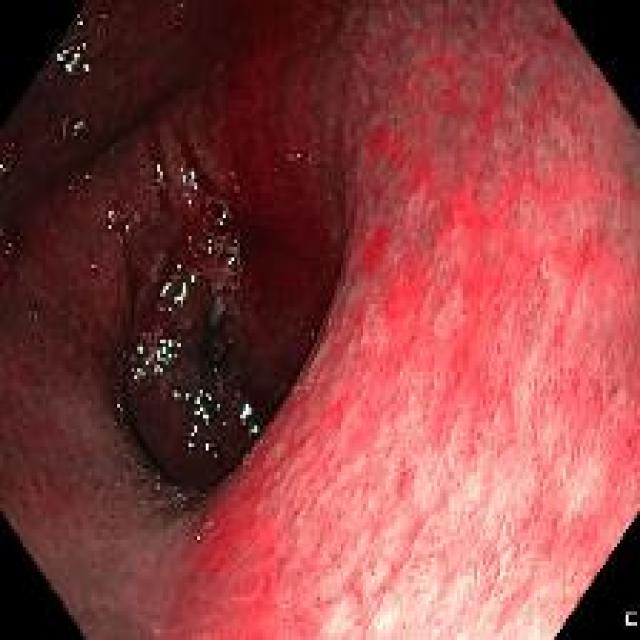bubbles: (54, 44, 93, 80), (2, 137, 19, 172), (107, 366, 127, 390), (3, 230, 16, 264), (223, 245, 237, 271), (168, 385, 183, 407), (172, 489, 189, 507), (222, 279, 238, 297), (223, 332, 236, 353), (76, 112, 91, 130), (154, 471, 166, 493), (207, 363, 223, 379), (27, 306, 40, 325), (219, 305, 232, 322), (203, 436, 213, 457), (185, 440, 196, 459), (186, 422, 199, 438), (74, 15, 87, 30), (99, 9, 111, 25), (98, 24, 106, 40), (84, 172, 97, 181)
contrast: (0, 1, 219, 487), (220, 254, 325, 347), (220, 342, 297, 462)
saturation: (300, 389, 603, 638)
specularity: (185, 384, 222, 462), (53, 42, 96, 80), (152, 333, 181, 382), (130, 338, 145, 384), (178, 165, 200, 195), (152, 161, 167, 194), (174, 278, 186, 313), (237, 399, 250, 428), (104, 205, 114, 235), (26, 305, 41, 324), (157, 280, 170, 301), (169, 387, 183, 406), (224, 251, 235, 271), (213, 216, 228, 230), (89, 257, 100, 276), (121, 220, 131, 239), (221, 204, 231, 221), (206, 234, 214, 255), (249, 426, 260, 441), (187, 273, 198, 287), (176, 262, 186, 276), (186, 197, 195, 212), (203, 518, 213, 529), (195, 530, 203, 543), (231, 395, 237, 410), (222, 420, 228, 430), (113, 400, 119, 408), (6, 241, 11, 247), (0, 162, 3, 169)
